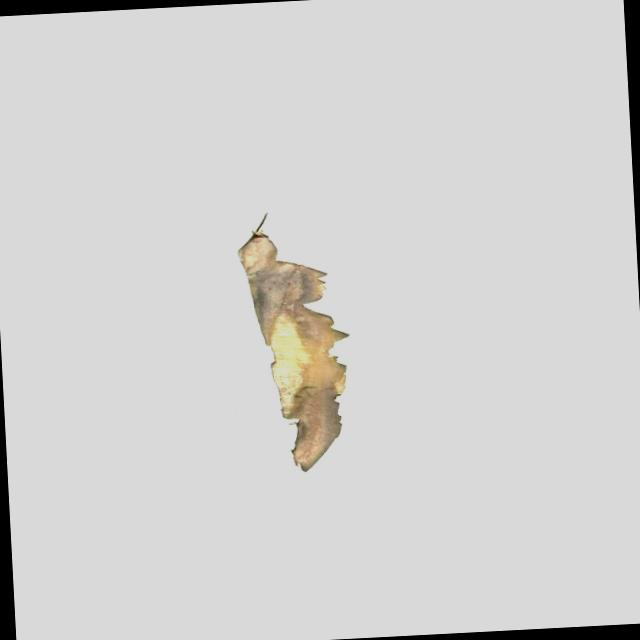surface_peeling: (227, 208, 361, 481)
